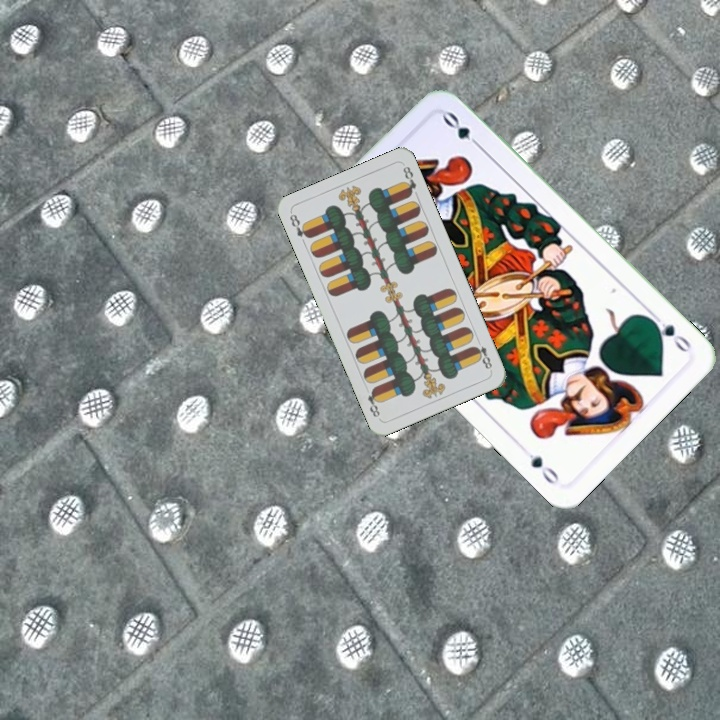E8: (285, 210, 313, 241), (470, 341, 495, 373)
GO: (644, 308, 694, 356)
